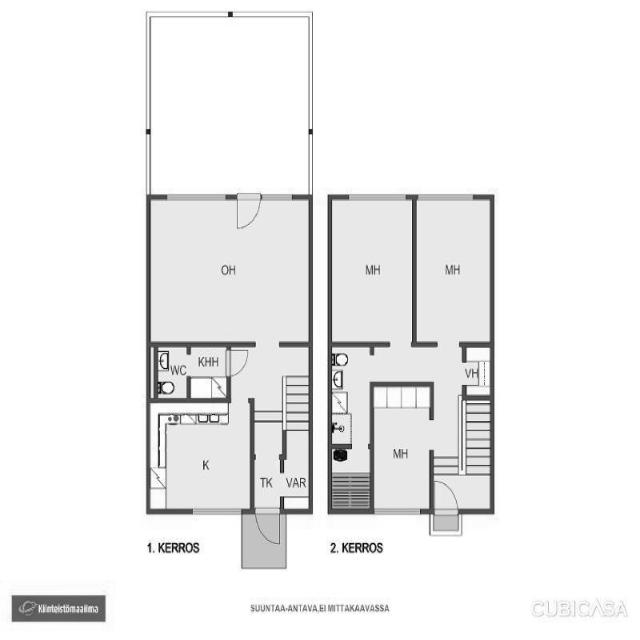door: (232, 189, 263, 238), (248, 506, 282, 544), (428, 476, 457, 512), (220, 346, 250, 378)
window: (417, 190, 479, 210), (161, 188, 228, 206), (346, 190, 409, 208), (365, 501, 422, 517), (189, 503, 244, 518), (258, 186, 294, 202)
zone: (147, 195, 309, 344), (326, 194, 416, 342), (144, 399, 254, 512), (413, 198, 492, 342), (368, 384, 432, 509), (331, 343, 372, 446), (326, 444, 371, 510), (146, 342, 191, 402), (188, 343, 230, 403), (283, 437, 309, 510), (463, 344, 490, 396)
